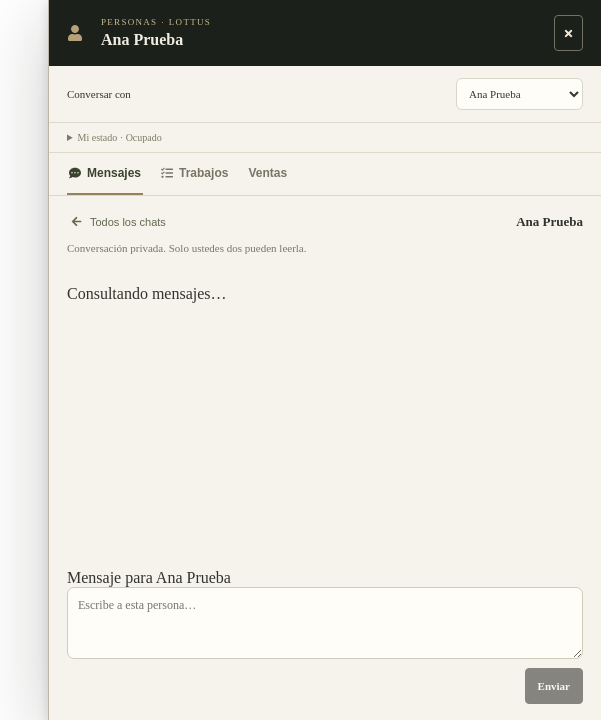
Personas y colaboración en la oficina › no consulta el resumen comercial ajeno y muestra la restricción
The image size is (601, 720).
Click the button "Ventas" at (268, 174), box 246,153 -> 289,195
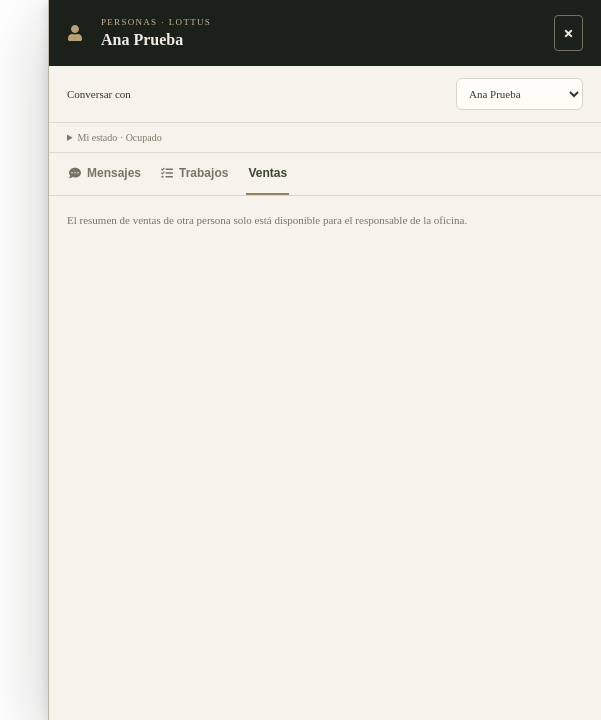
expect the text "solo está disponible para el responsable" is shown: met, box 67,214 -> 467,226
